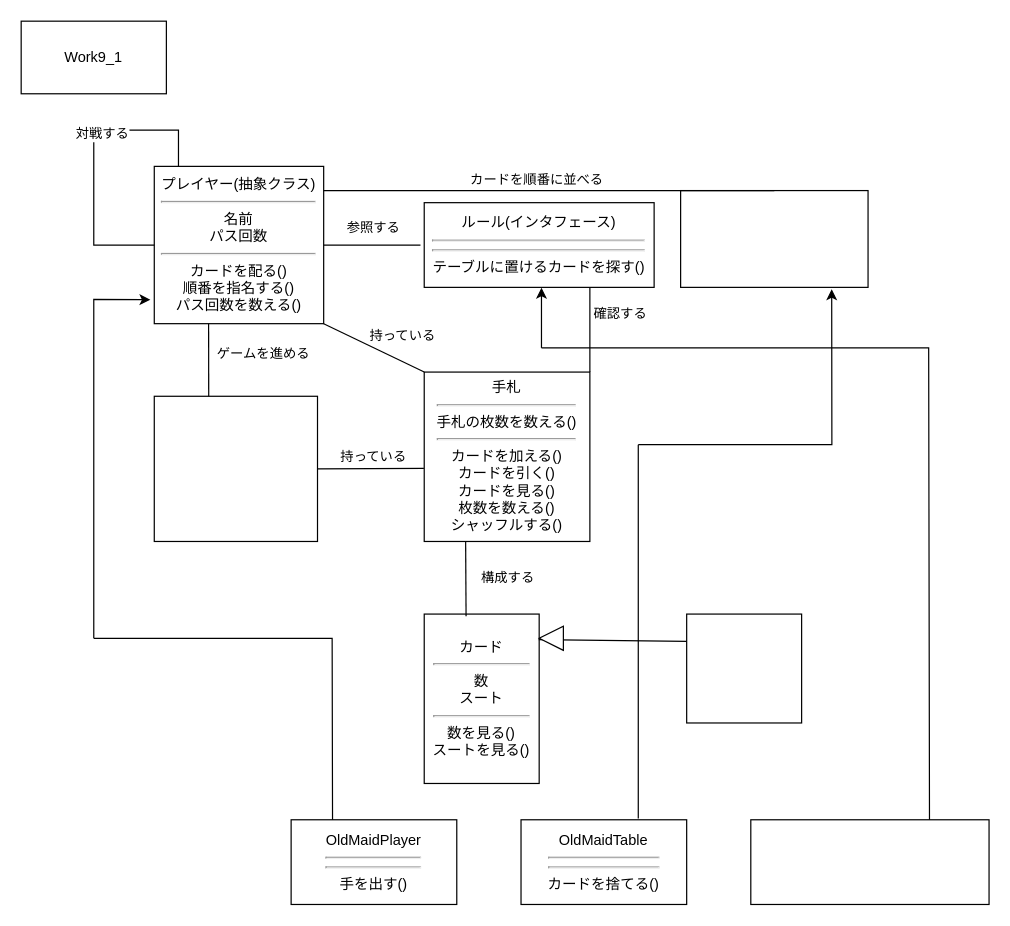
This 1010x926 diagram has some shape labels left out. Here are the shapes that lost their labels. From the top down, the centre of each, then its label:
At point (773, 238): "テーブル(インタフェース) カードを置く() カードを見る()".
At point (235, 468): "進行役 ゲームを準備する() ゲームを開始する() パスの確認する() 上がりを宣言する()".
At point (743, 668): "ジョーカー 数字の変更() スートの変更()".
At point (869, 861): "OldMaid Rule 同じ数字のカードを探す()".
